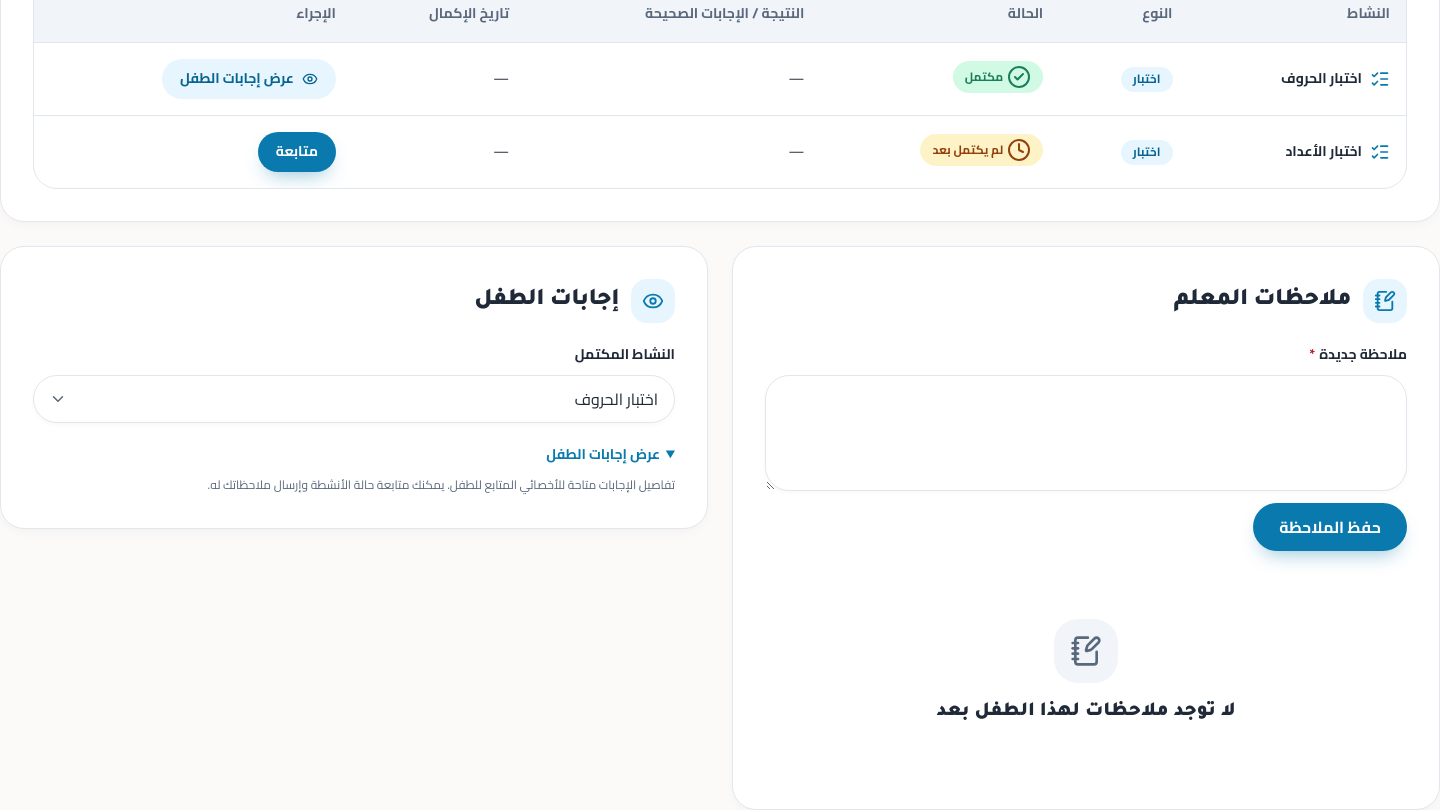
Test: TeacherChildPage — plan-focused view (client revision 2026-10) › deletes a note after confirmation
(page scrolled)
Check: the element "ملاحظات المعلم" is shown, box 732,246 -> 1439,809
In the text box labelled "ملاحظة جديدة*": (1086, 433) 765,375 -> 1407,491, type "ملاحظة للحذف"
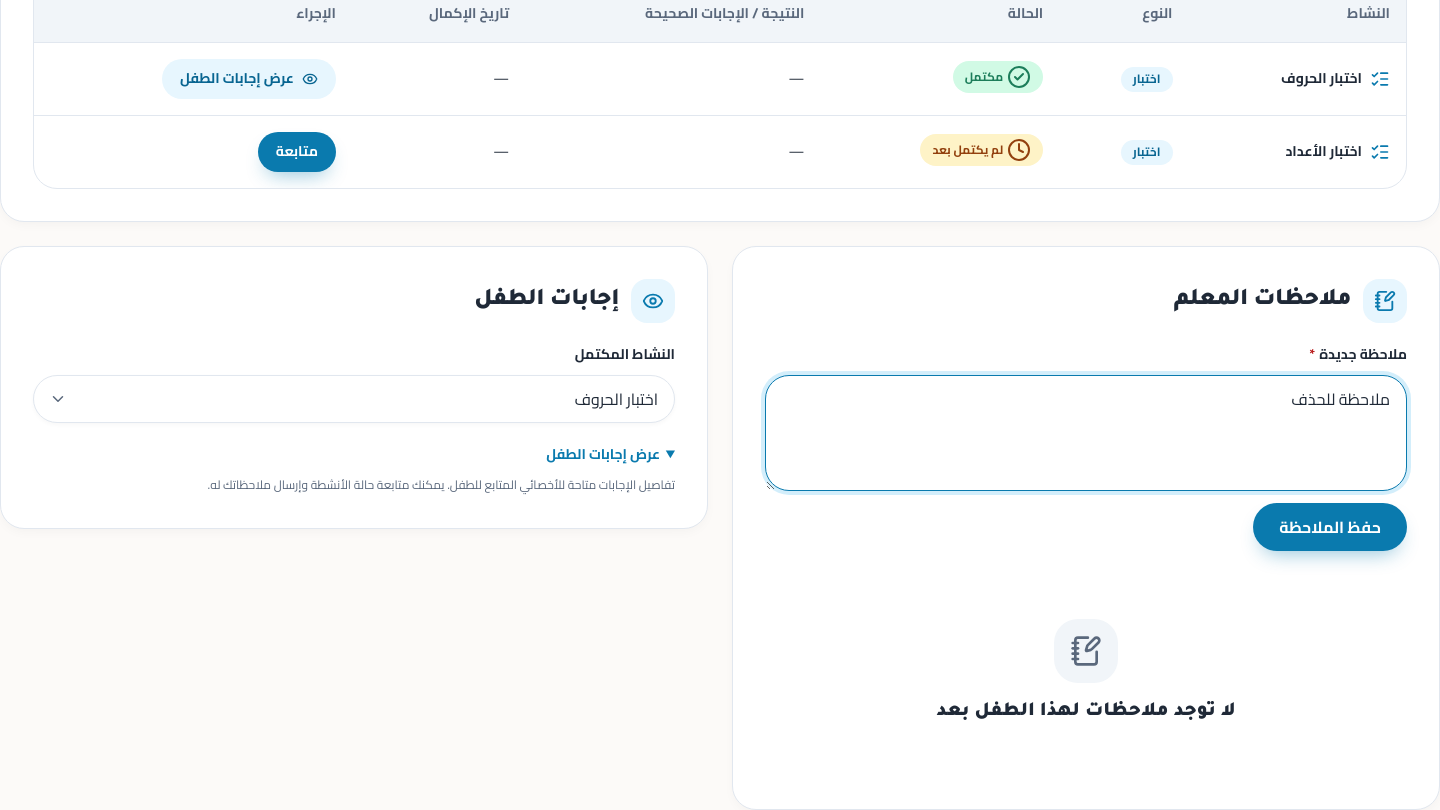
Click the button "حفظ الملاحظة": (1330, 526) 1253,502 -> 1407,550
(page scrolled)
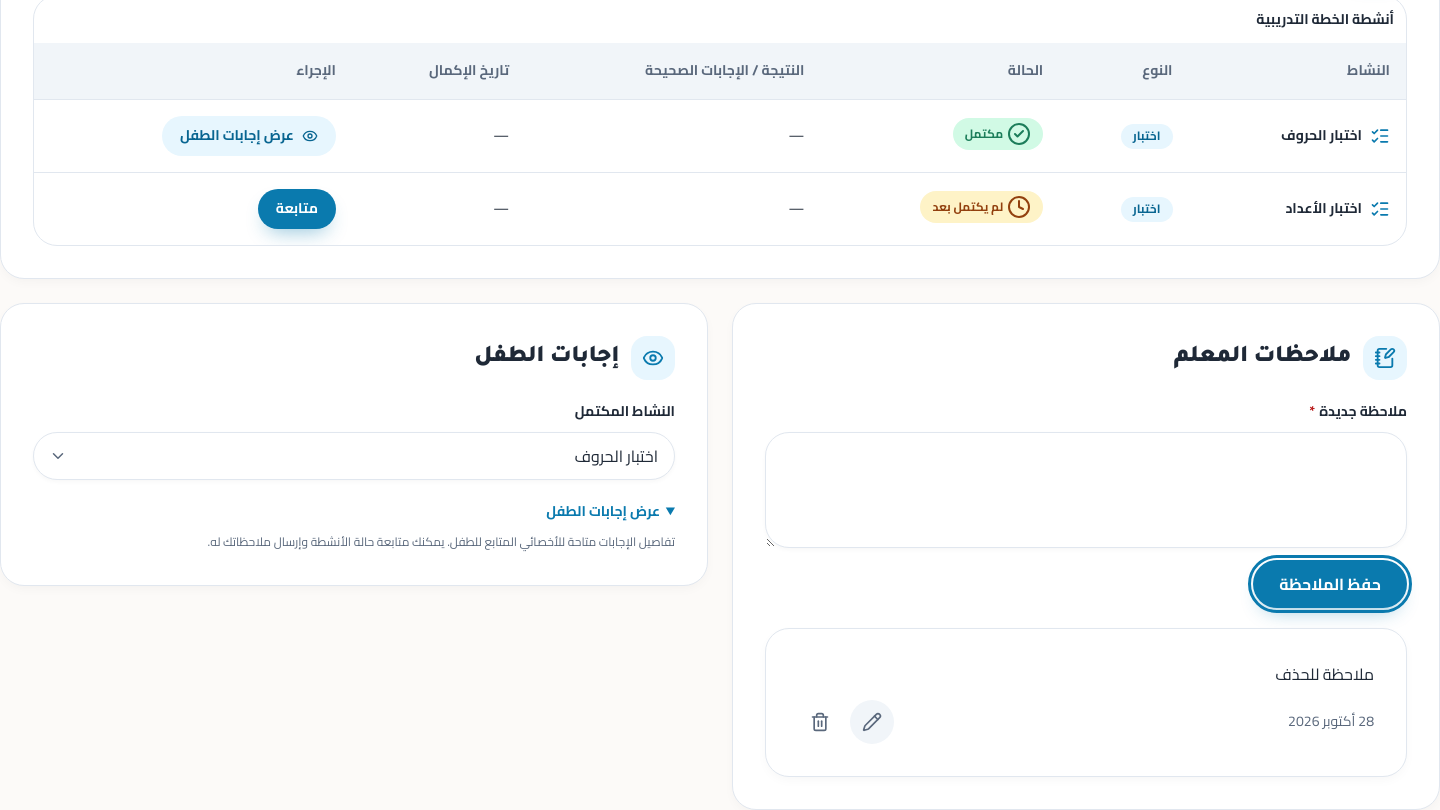
Check: the text "ملاحظة للحذف" is shown, box 1275,658 -> 1374,688
Click the button named "حذف الملاحظة": (820, 722) 798,700 -> 842,744
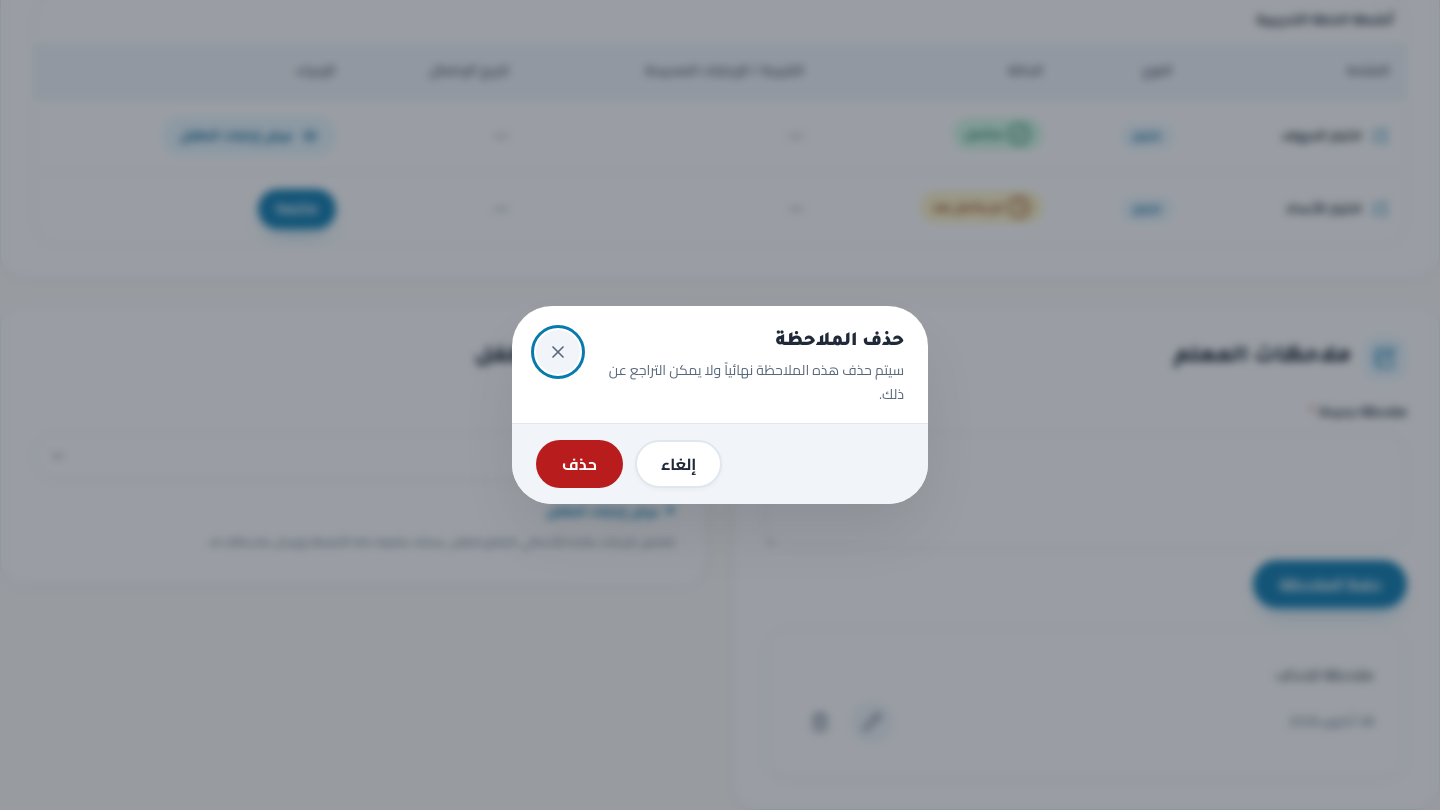
Click the button "حذف": (579, 464) 536,440 -> 623,488
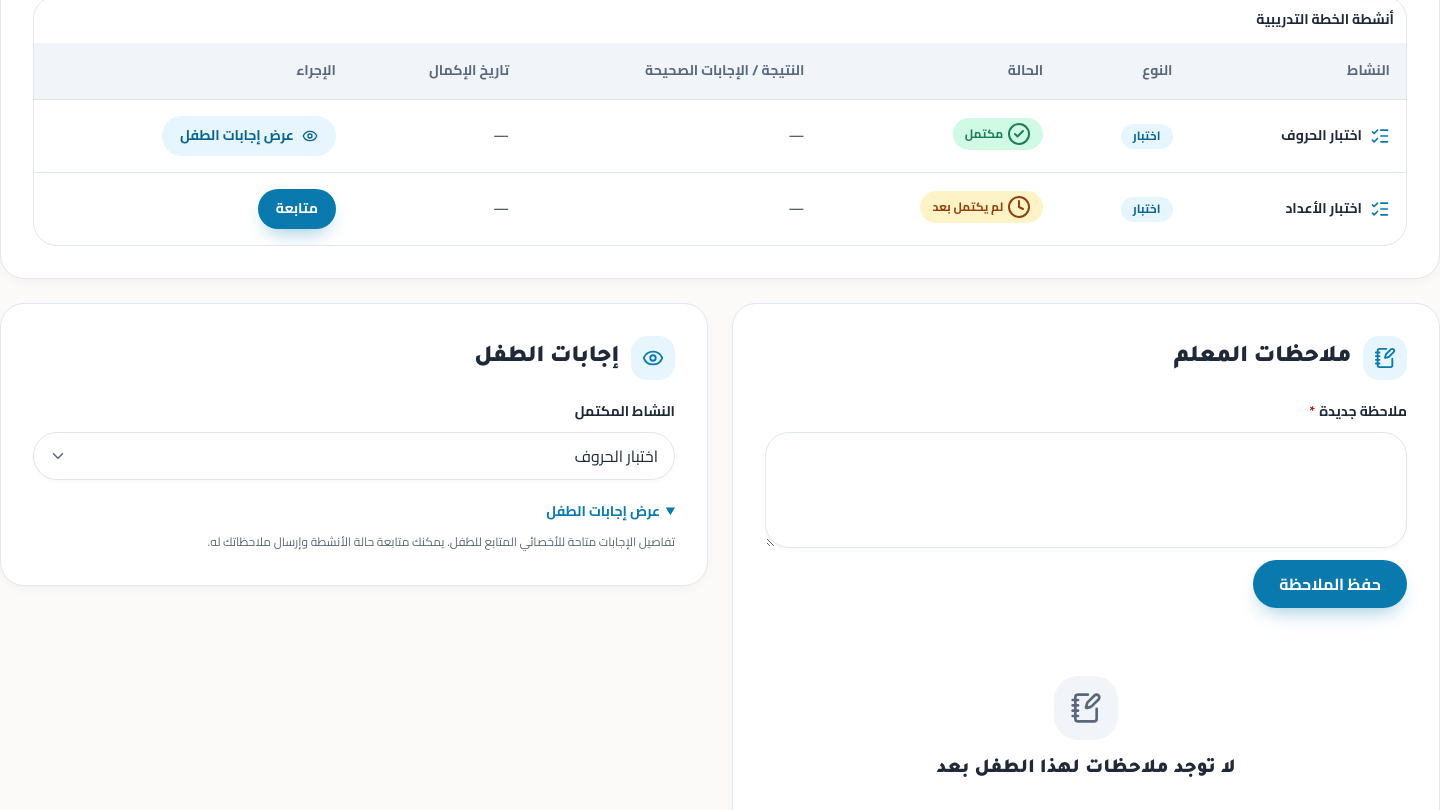
Check: the text "لا توجد ملاحظات لهذا الطفل بعد" is shown, box 936,758 -> 1236,778
